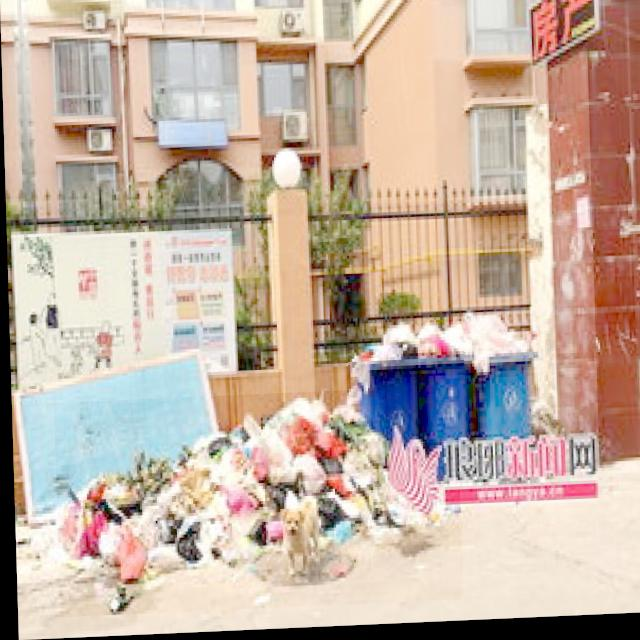garbage: (52, 389, 459, 618)
overflow: (461, 312, 536, 443), (345, 343, 418, 450), (415, 324, 464, 447)
